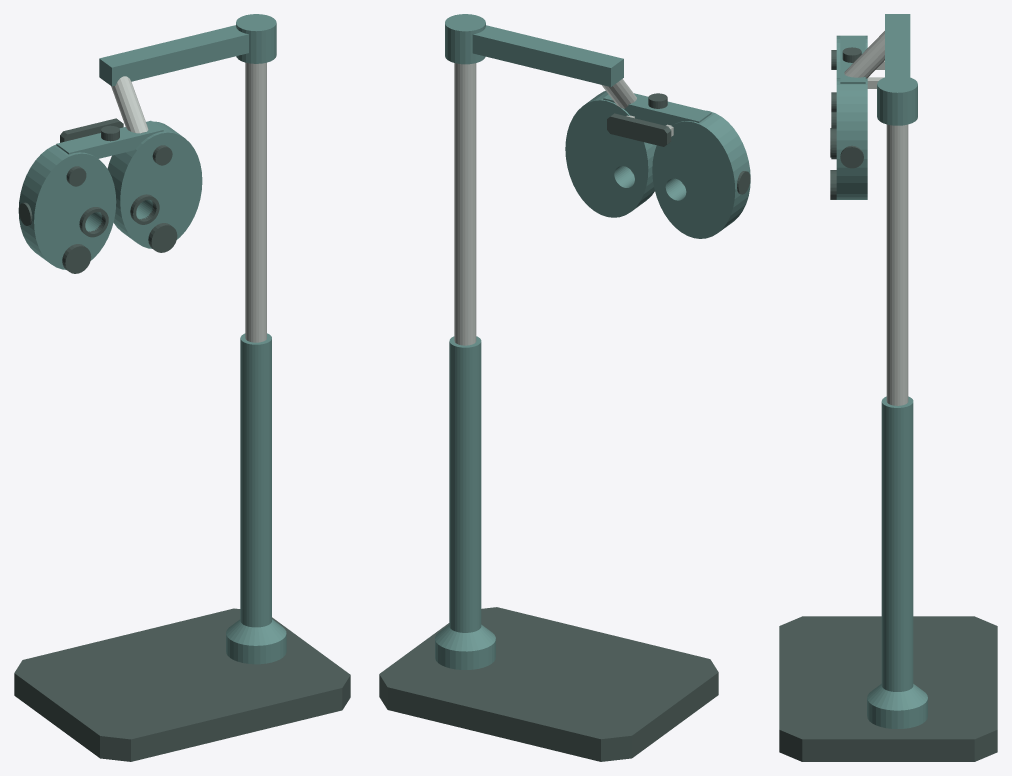
3 views of the same model, side by side, from view 1: azimuth 30°, elevation 25°; view 2: azimuth 150°, elevation 25°; view 3: azimuth 270°, elevation 25° (orthographic).
Visible parts, largest first — view 1: WholeWideGroundPlinth, WholeLowerStandSleeve, WholeFlatSightHousing_-1, WholeFlatSightHousing_1, WholeUpperStandPost, WholeTopCantilever, WholeTopConnectingBridge, WholeUpperPostJoint, WholeHeadSuspension, WholeLowerBlankDial_1, WholeLowerBlankDial_-1, WholeRearForeheadPad; view 2: WholeWideGroundPlinth, WholeLowerStandSleeve, WholeFlatSightHousing_-1, WholeFlatSightHousing_1, WholeUpperStandPost, WholeTopCantilever, WholeUpperPostJoint, WholeTopConnectingBridge, WholeRearForeheadPad; view 3: WholeWideGroundPlinth, WholeLowerStandSleeve, WholeUpperStandPost, WholeFlatSightHousing_1, WholeUpperPostJoint, WholeTopCantilever, WholeHeadSuspension, WholeTopConnectingBridge, WholeOuterSideDial_1.
Boxes of the visible parts, x1,y1,x2,y2 form: WholeWideGroundPlinth: [14, 608, 350, 761]; WholeLowerStandSleeve: [226, 333, 286, 664]; WholeFlatSightHousing_-1: [18, 144, 116, 269]; WholeFlatSightHousing_1: [107, 121, 202, 248]; WholeUpperStandPost: [245, 62, 266, 342]; WholeTopCantilever: [99, 25, 248, 86]; WholeTopConnectingBridge: [56, 120, 163, 158]; WholeUpperPostJoint: [236, 14, 276, 63]; WholeHeadSuspension: [111, 76, 148, 133]; WholeLowerBlankDial_1: [148, 223, 177, 252]; WholeLowerBlankDial_-1: [62, 244, 91, 273]; WholeRearForeheadPad: [60, 118, 123, 142]; WholeWideGroundPlinth: [379, 607, 718, 761]; WholeLowerStandSleeve: [435, 336, 495, 669]; WholeFlatSightHousing_-1: [652, 110, 750, 238]; WholeFlatSightHousing_1: [565, 91, 656, 217]; WholeUpperStandPost: [454, 63, 476, 345]; WholeTopCantilever: [472, 25, 623, 86]; WholeUpperPostJoint: [445, 14, 485, 64]; WholeTopConnectingBridge: [603, 93, 711, 125]; WholeRearForeheadPad: [607, 113, 671, 146]; WholeWideGroundPlinth: [779, 616, 997, 761]; WholeLowerStandSleeve: [867, 396, 927, 728]; WholeUpperStandPost: [886, 124, 908, 405]; WholeFlatSightHousing_1: [836, 78, 867, 199]; WholeUpperPostJoint: [877, 75, 917, 125]; WholeTopCantilever: [885, 14, 910, 77]; WholeHeadSuspension: [844, 31, 884, 78]; WholeTopConnectingBridge: [840, 35, 865, 83]; WholeOuterSideDial_1: [840, 145, 863, 168].
Bounding box in the file's own units: 0.769 × 1.59 × 0.48.
